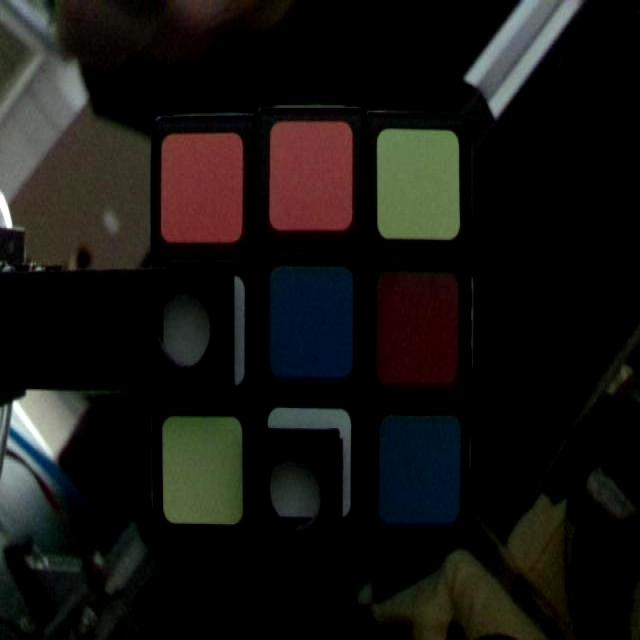b: (382, 417, 454, 518), (277, 274, 348, 371)
o: (274, 123, 352, 224), (164, 137, 239, 237)
r: (380, 280, 455, 380)
w: (158, 280, 244, 382), (268, 411, 347, 516)
y: (378, 130, 459, 236), (164, 417, 241, 520)
